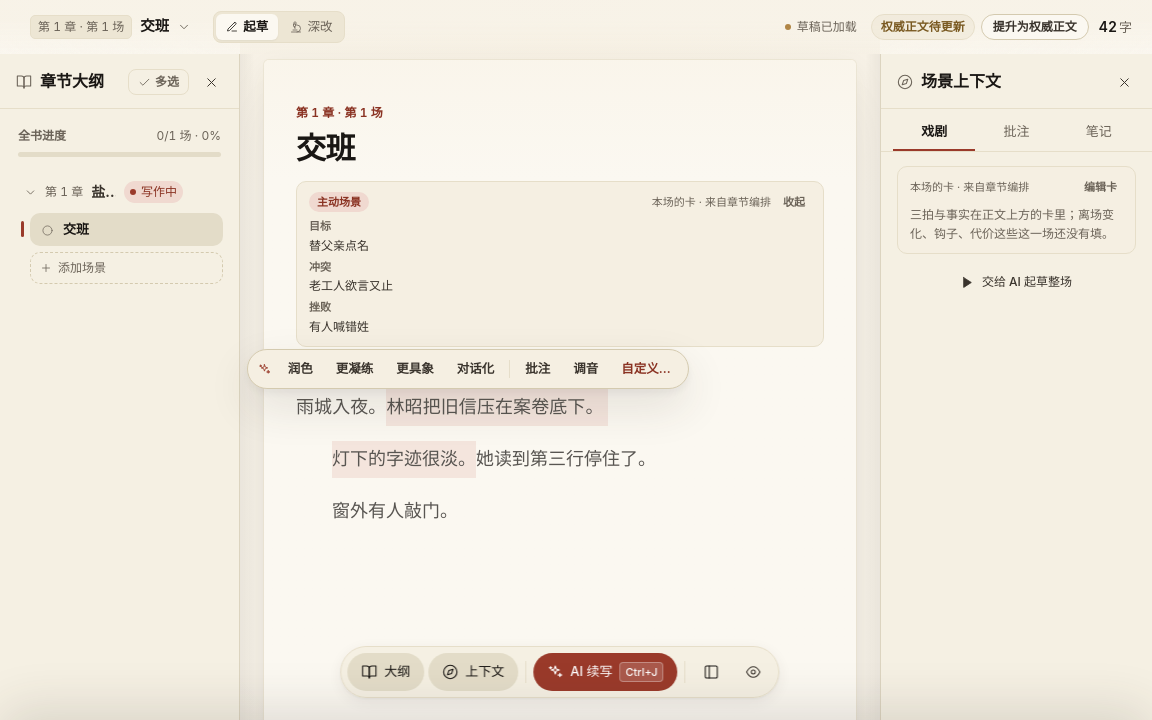
Test: 写作台 · 跨段改写按段换回（#20b） › 每一版都挤成了一段：不替换，说「挤成了一段」，并回传弃用
expect the field with class "wr-editor" shows "林昭": met, box [296, 397, 656, 522]
Click the button "润色". click: (300, 369)
box: [277, 354, 324, 384]
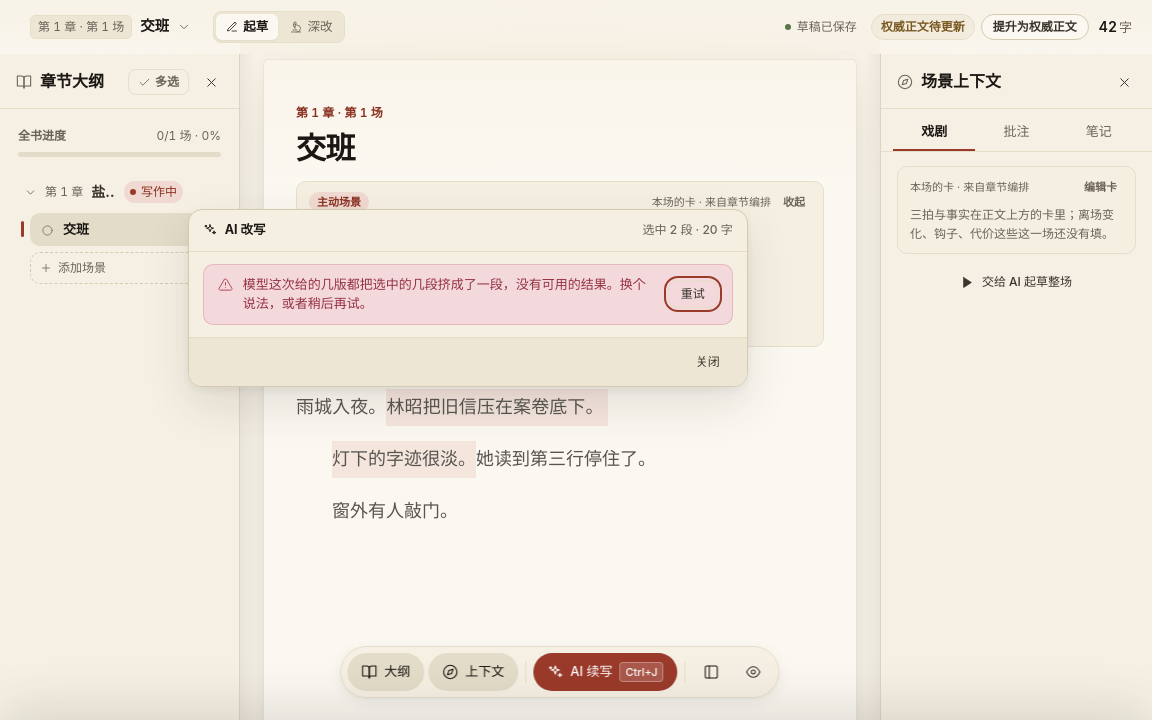
expect the dialog with class "wr-irw-pop" shows "挤成了一段": met, box [243, 276, 646, 311]
